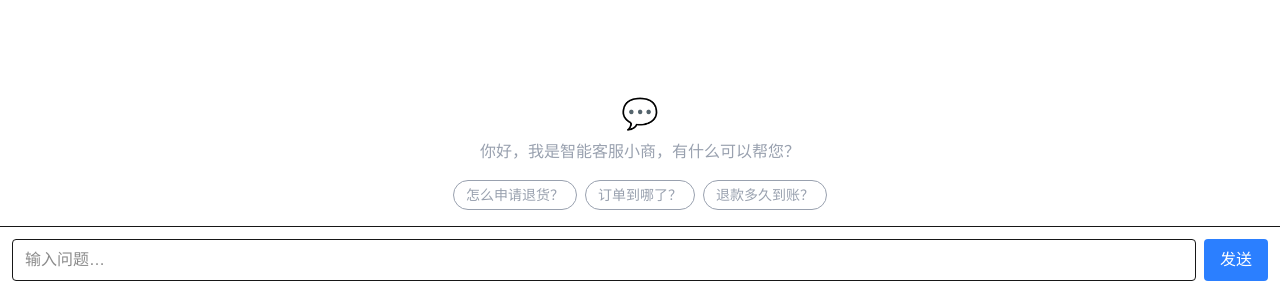
ChatWindow › 收到 human_handoff 后显示转人工按钮
In the field with placeholder "输入问题…": (604,260) x1=12 y1=239 x2=1196 y2=281, type "怎么开电子发票"
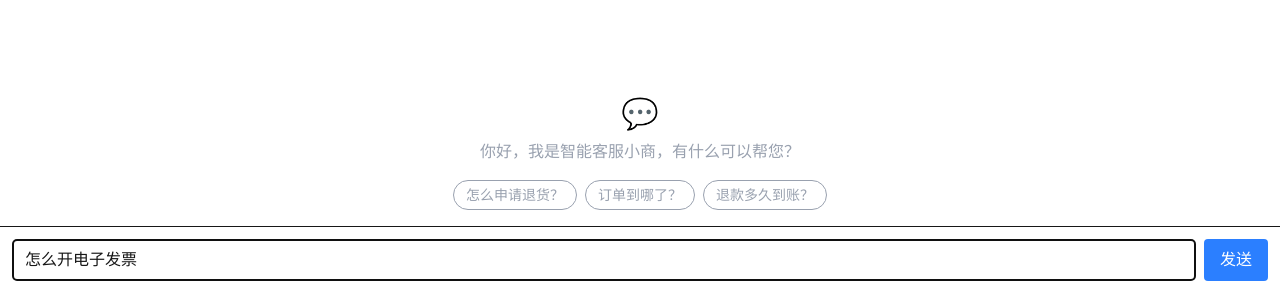
Click the button "发送": (1236,260) x1=1204 y1=239 x2=1268 y2=281
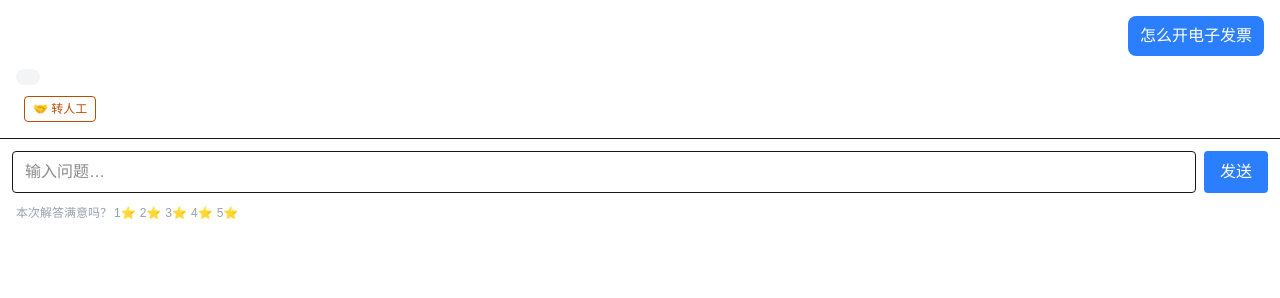
Result: the button "🤝 转人工" is shown at x1=24 y1=96 x2=96 y2=122
